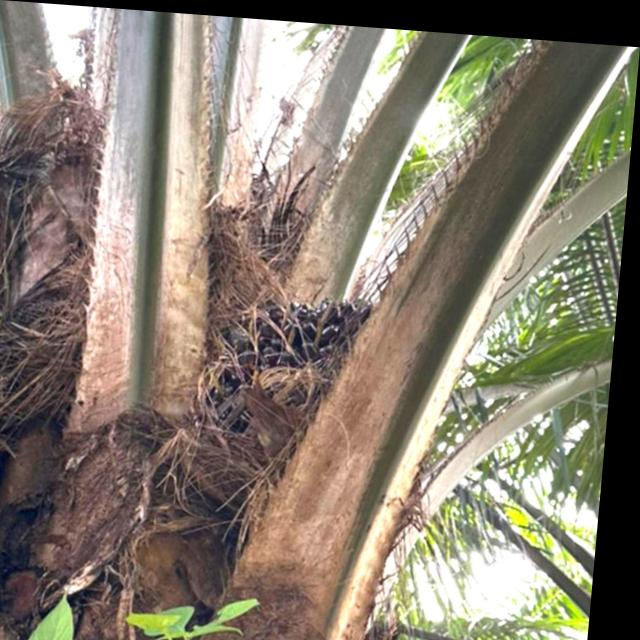almost: (193, 268, 421, 491)
